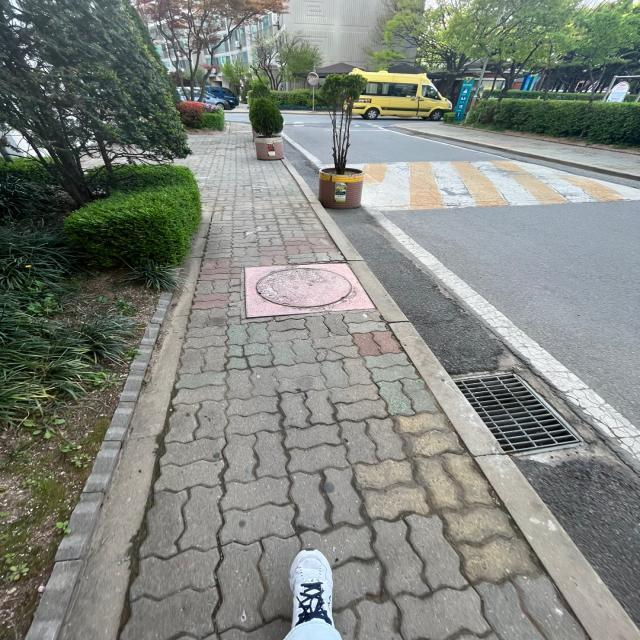manhole: (256, 268, 351, 308)
